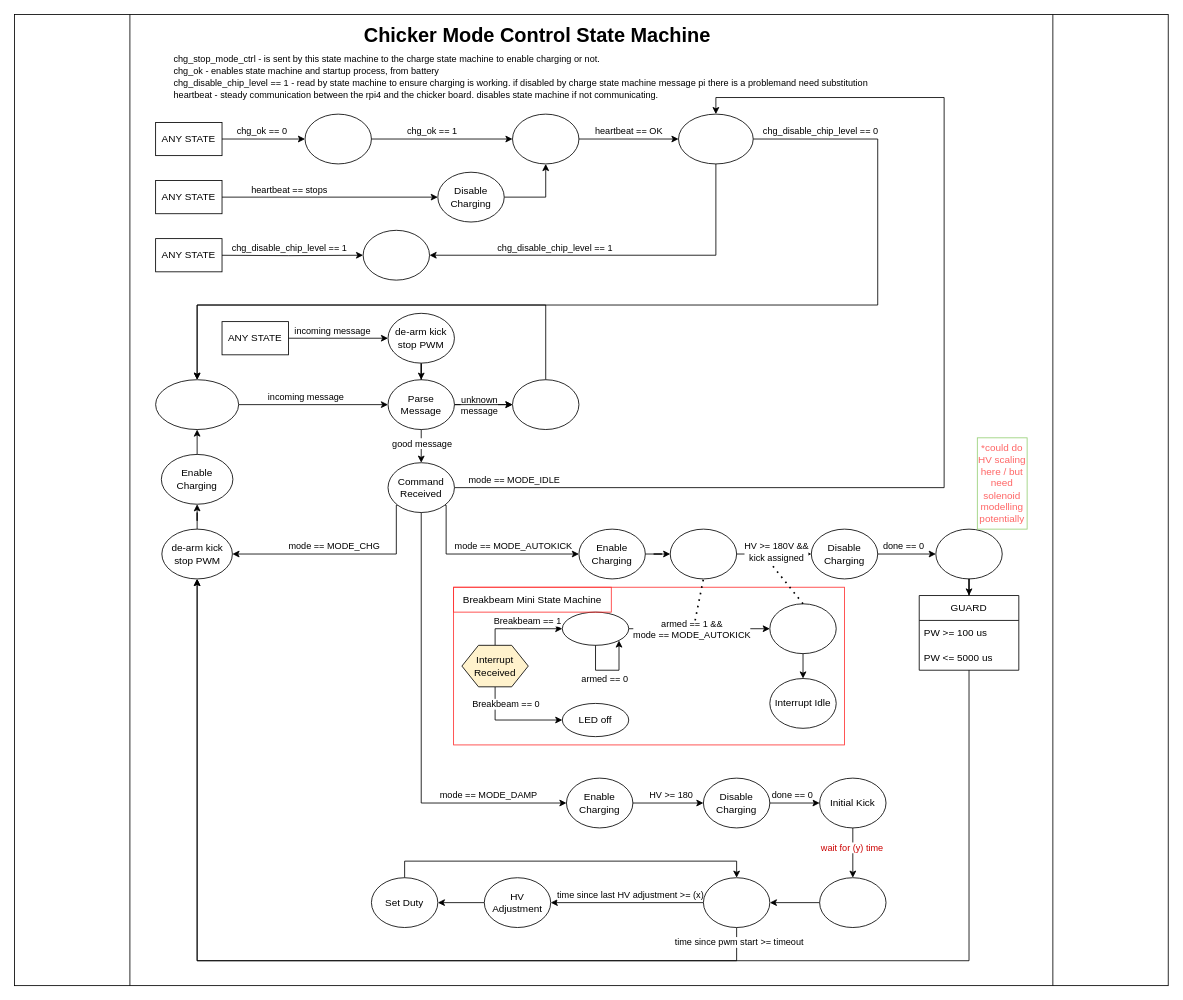
Image size: 1183x1000. Some labels were removed from this diagram. The shapes that lost their labels are listed below. From the top down, each one's centre as x and y in pixels, then its label:
point 337,138: Wait for Bat
point 545,138: Start BKBM interrupt
point 715,138: Set Idle Mode (chg inhibited, discharging)
point 396,254: Locked. Message pi4 to substitute
point 197,404: Wait for Message
point 545,404: Unknown command
point 703,553: Arm Kick
point 968,553: Kick with PW Assigned
point 595,628: LED on
point 802,628: Assign Kick
point 736,902: Wait
point 852,902: Start Damping PWM
